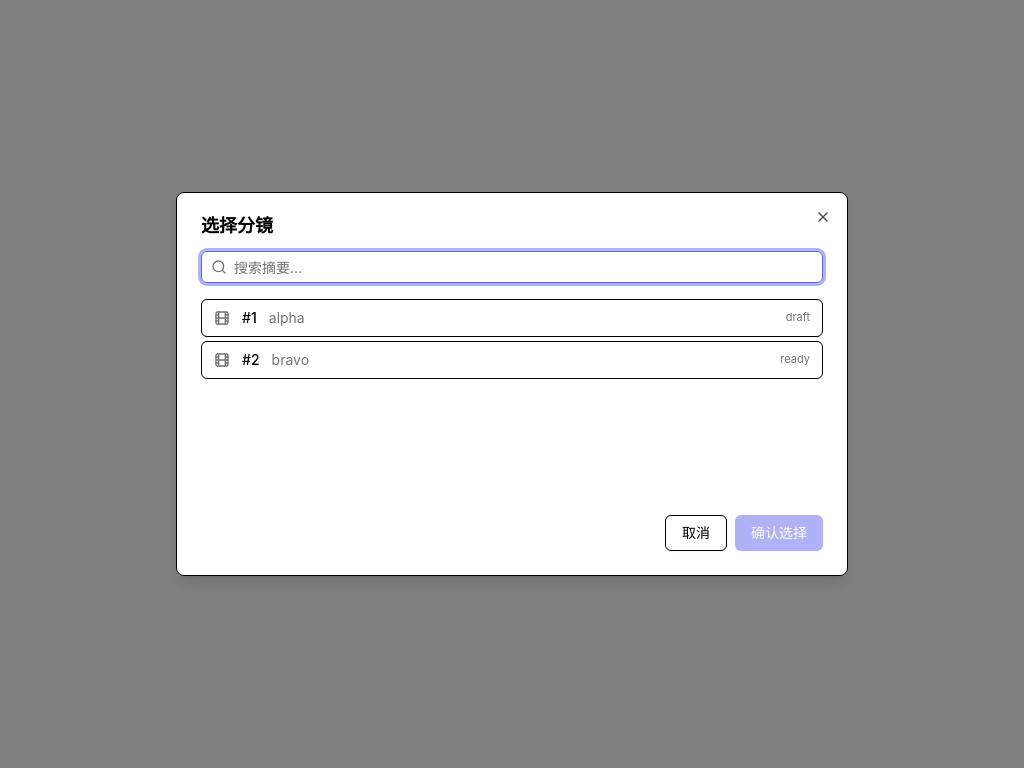
Scenario: ShotPickerDialog › filters by keyword
The width and height of the screenshot is (1024, 768).
Type "alpha" into the field with placeholder "搜索摘要..." at coordinates (512, 267), box top-left (201, 251), bottom-right (823, 283)
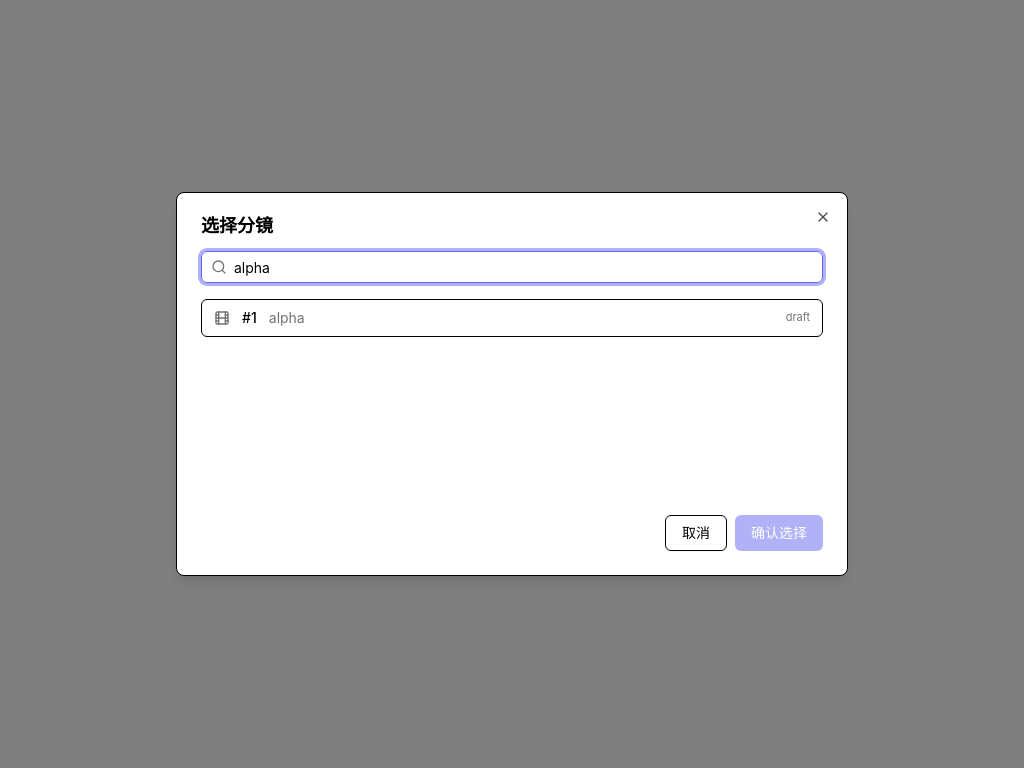
Check: the text "alpha" is shown, box top-left (269, 309), bottom-right (305, 326)
Check: the button "bravo" is gone
